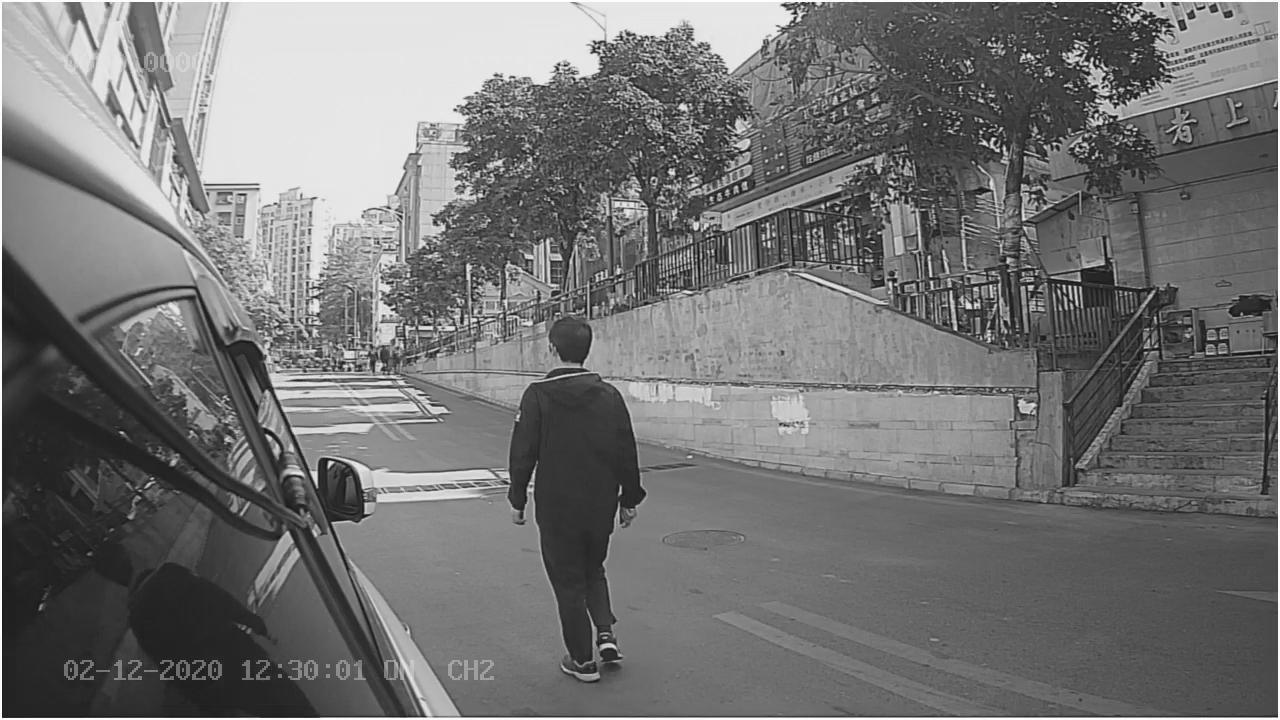person: (509, 304, 649, 683)
